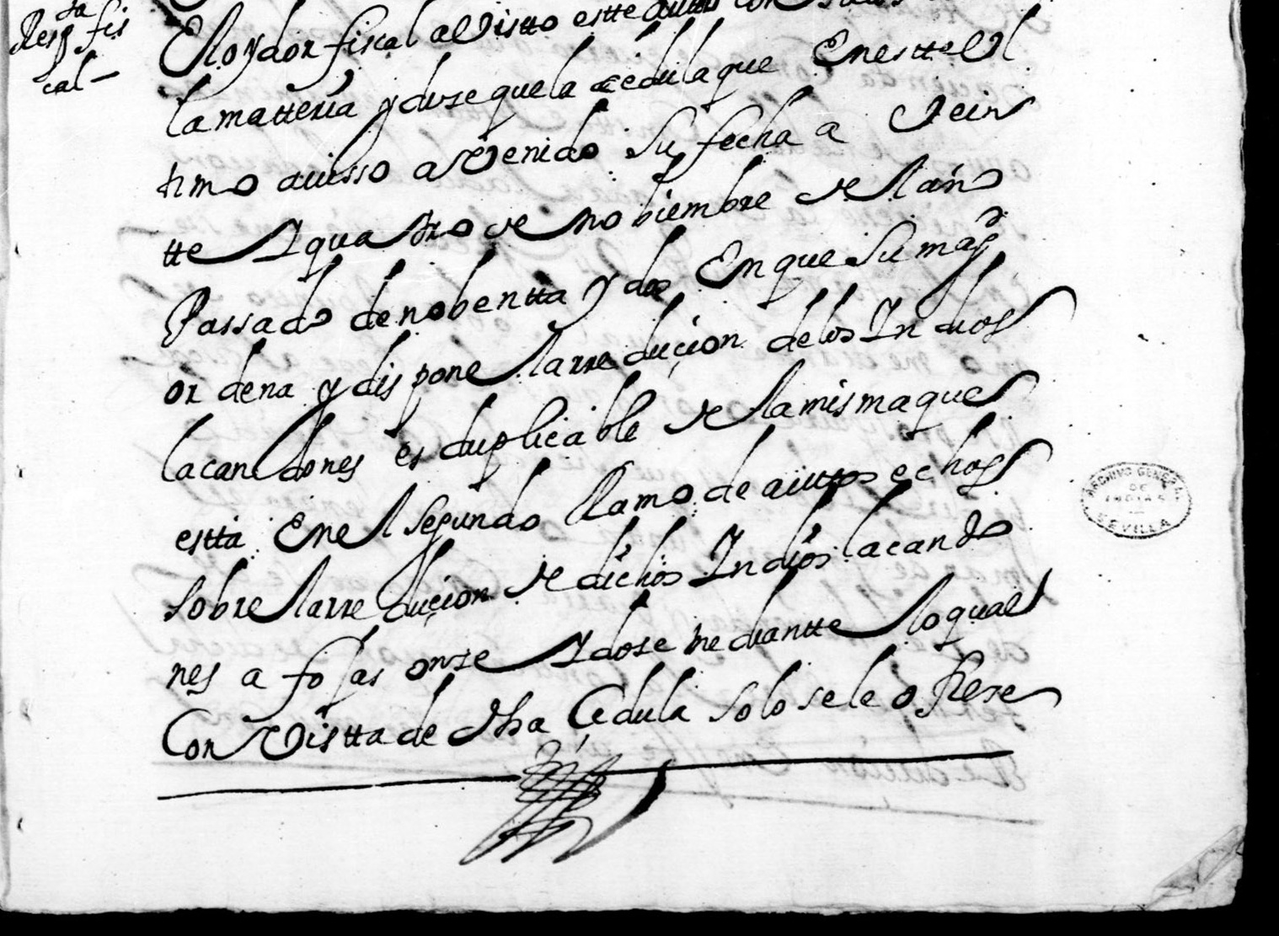lacandon: (161, 412, 365, 482), (842, 479, 1013, 557)
